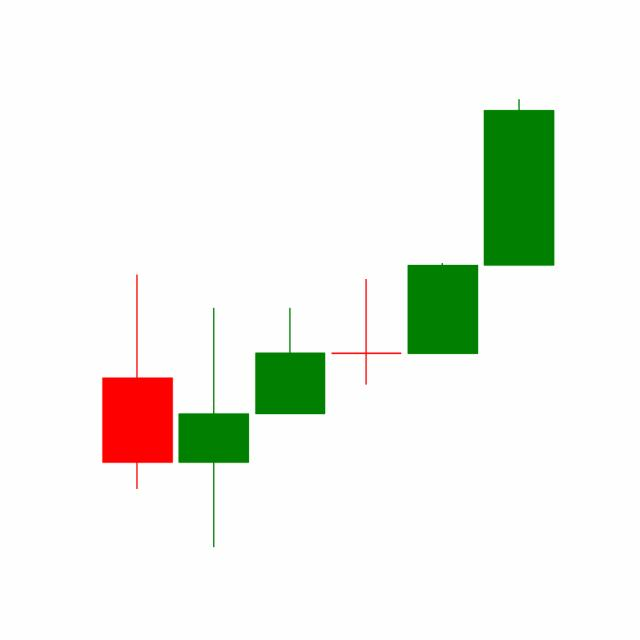Marubozu: (403, 260, 481, 354)
